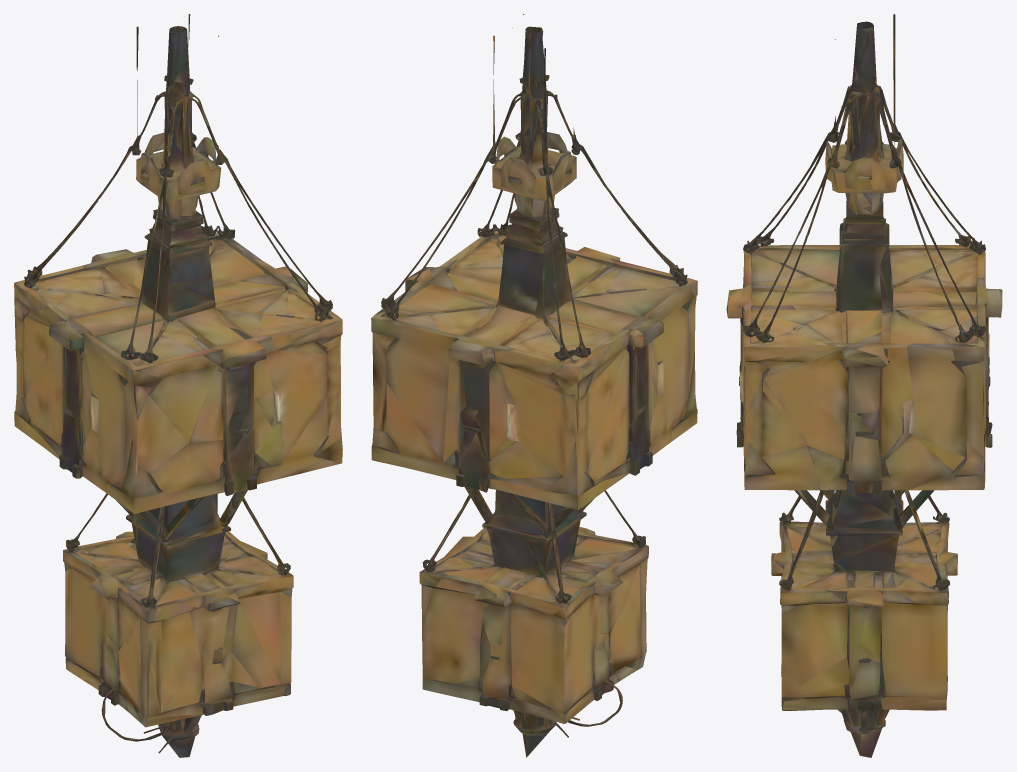
Rendered from bld-inverted-cube-hab-lod2.glb.
3 views of the same model, side by side, from view 1: azimuth 30°, elevation 25°; view 2: azimuth 150°, elevation 25°; view 3: azimuth 270°, elevation 25° (orthographic).
Visible parts, largest first — view 1: Mesh_0; view 2: Mesh_0; view 3: Mesh_0.
Part boxes in pixels (<box>): Mesh_0: <box>14,14,342,757</box>; Mesh_0: <box>371,14,697,757</box>; Mesh_0: <box>726,14,1002,757</box>.
Size of the model in its own units: 0.6381 by 1.87 by 0.6379.
1 material, 1 textured.
